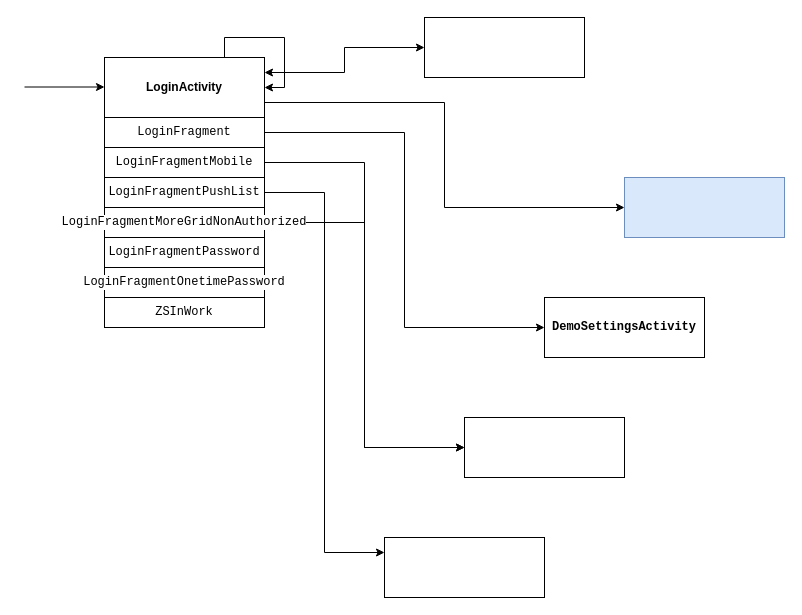
Some shapes in this 802 by 615 pixel diagram are drawn without their labels. Here are the shapes that lost their labels. From the top down, the centre of each, then its label:
point (504, 47): ZSActivityTest
point (704, 207): MainActivity
point (544, 447): Intent . ACTION_DIAL
point (464, 567): action: "android.settings.APP_NOTIFICATION_SETTINGS"
